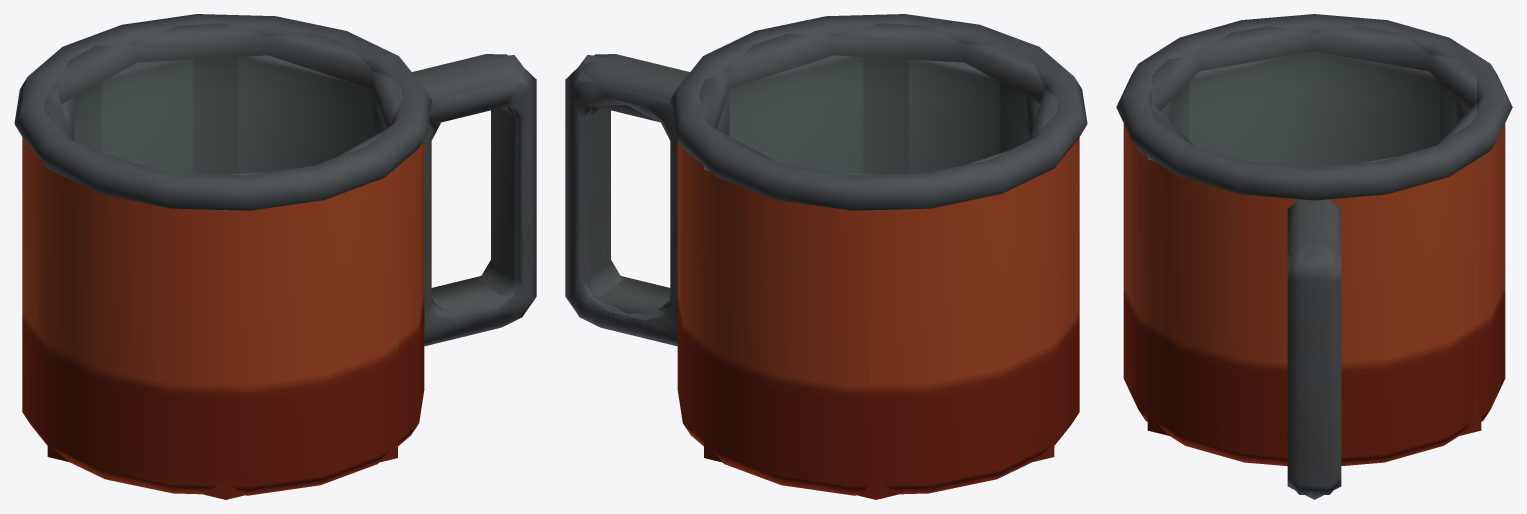
Rendered from pi_cup01_01.gltf.
The picture shows the model from 3 angles, left to right: view 1: azimuth 30°, elevation 25°; view 2: azimuth 150°, elevation 25°; view 3: azimuth 270°, elevation 25°; orthographic projection. The views are drawn at different scales.
Parts seen in each view (by area): view 1: um_pi_cup01_01_model_lod0Shape:pi_cup01_01_obj01, um_pi_cup01_01_model_lod2Shape:pi_cup01_01_obj01, um_pi_cup01_01_model_lod1Shape:pi_cup01_01_obj01; view 2: um_pi_cup01_01_model_lod0Shape:pi_cup01_01_obj01, um_pi_cup01_01_model_lod2Shape:pi_cup01_01_obj01, um_pi_cup01_01_model_lod1Shape:pi_cup01_01_obj01; view 3: um_pi_cup01_01_model_lod0Shape:pi_cup01_01_obj01, um_pi_cup01_01_model_lod2Shape:pi_cup01_01_obj01, um_pi_cup01_01_model_lod1Shape:pi_cup01_01_obj01.
Part boxes in pixels (x1,y1,x2,y2): um_pi_cup01_01_model_lod0Shape:pi_cup01_01_obj01: [14, 14, 536, 495]; um_pi_cup01_01_model_lod2Shape:pi_cup01_01_obj01: [47, 55, 531, 499]; um_pi_cup01_01_model_lod1Shape:pi_cup01_01_obj01: [44, 23, 531, 346]; um_pi_cup01_01_model_lod0Shape:pi_cup01_01_obj01: [565, 14, 1087, 495]; um_pi_cup01_01_model_lod2Shape:pi_cup01_01_obj01: [570, 55, 1054, 499]; um_pi_cup01_01_model_lod1Shape:pi_cup01_01_obj01: [570, 23, 1057, 346]; um_pi_cup01_01_model_lod0Shape:pi_cup01_01_obj01: [1116, 14, 1512, 494]; um_pi_cup01_01_model_lod2Shape:pi_cup01_01_obj01: [1147, 51, 1481, 499]; um_pi_cup01_01_model_lod1Shape:pi_cup01_01_obj01: [1152, 26, 1476, 252].
Size of the model in its own units: 0.2534 by 0.1564 by 0.1896.
Materials: 1 (1 with a texture image).
